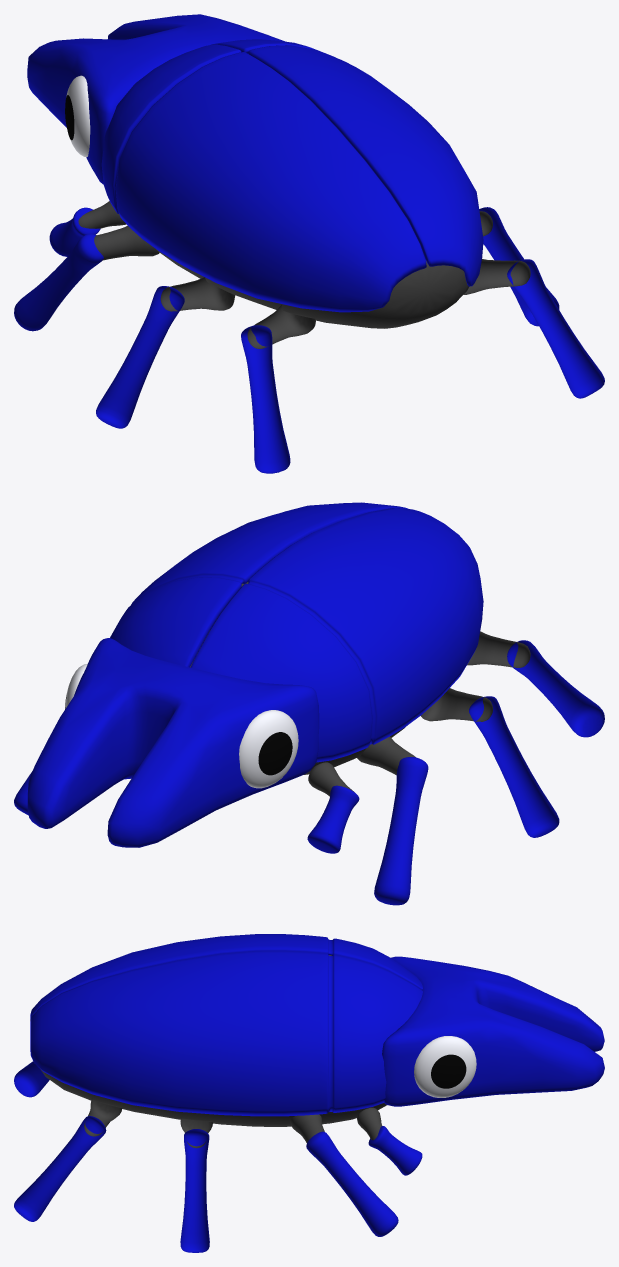
Rendered from Tower_stage_01.fbx.
3 views of the same model, one above another, from view 1: azimuth 30°, elevation 25°; view 2: azimuth 150°, elevation 25°; view 3: azimuth 270°, elevation 25° (orthographic). The views are drawn at different scales.
Parts seen in each view (by area): view 1: Tower Stage 01; view 2: Tower Stage 01; view 3: Tower Stage 01.
Boxes of the visible parts, x1,y1,x2,y2 form: Tower Stage 01: (14, 14, 604, 473); Tower Stage 01: (14, 502, 604, 905); Tower Stage 01: (14, 934, 604, 1252).
Bounding box in the file's own units: 99.99 × 56 × 136.
